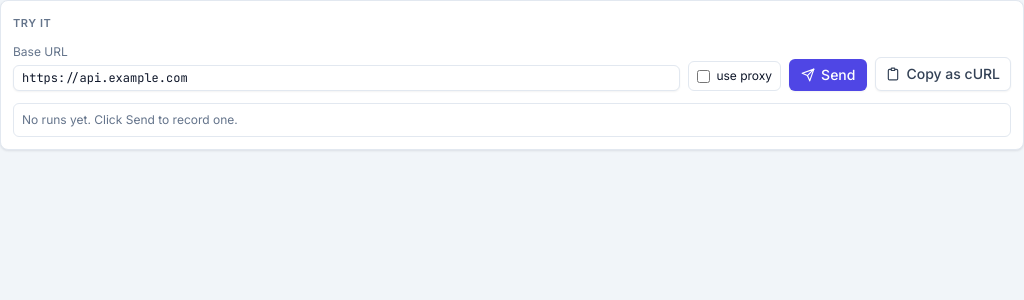
cors-or-network error with useProxy off renders Retry through proxy button
This screenshot has width=1024, height=300.
Step 1. Click the button "Send" → {"x": 828, "y": 75}, box [789,59,867,91]
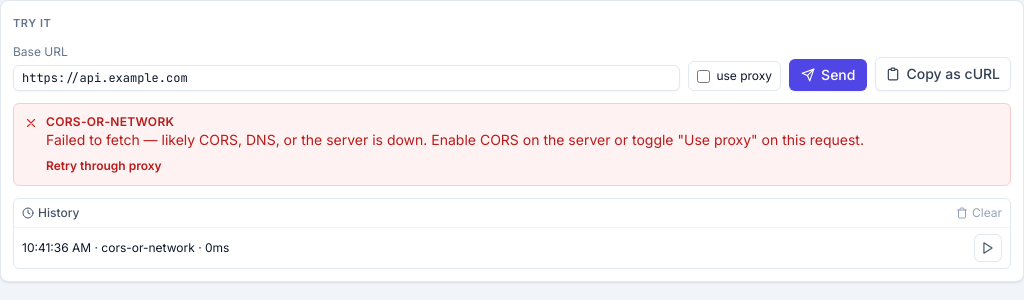
Expected: the button "Retry through proxy" is shown, [46,158,162,174]
